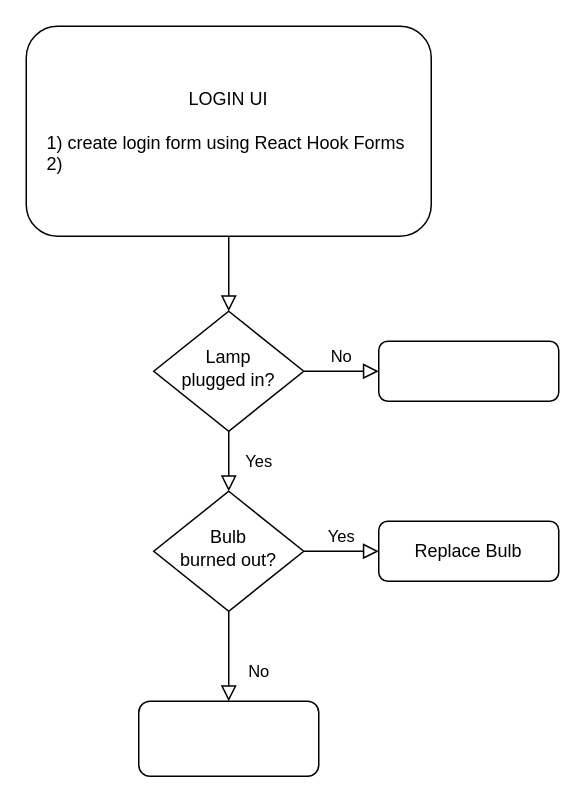
Image size: 585x803. Some labels were removed from this diagram. Here are the shapes that lost their labels. From the top down, the centre of each, then its label:
At point (468, 370): "Plug in lamp".
At point (228, 738): "Repair Lamp".
